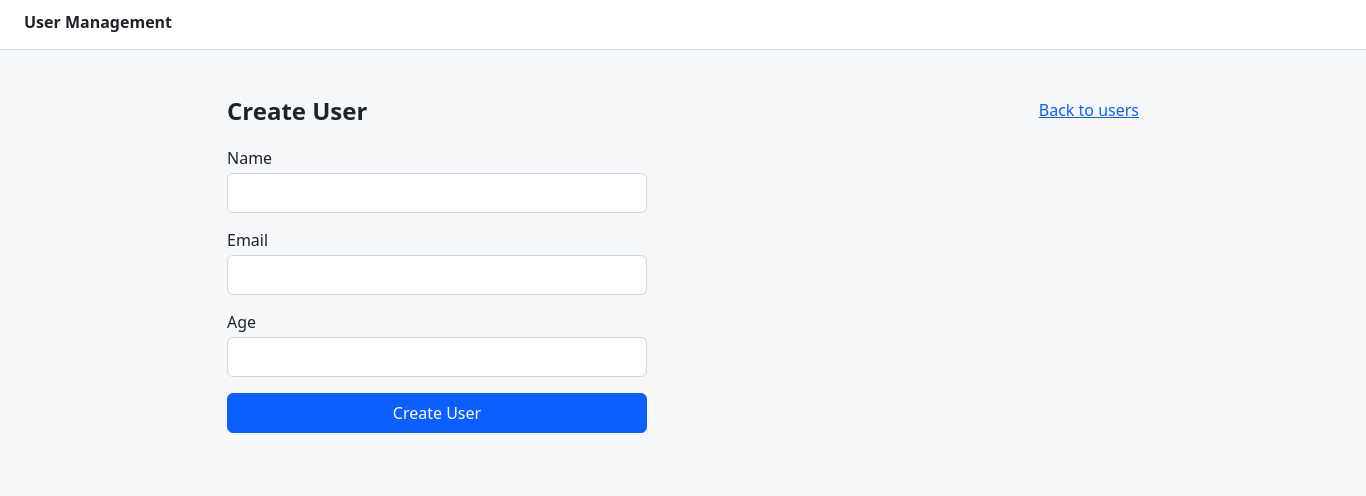
Scenario: Create user page › validates the email format and the age range
The width and height of the screenshot is (1366, 496).
Type "Alice" into the field labelled "Name" at {"x": 437, "y": 193}, box top-left (227, 173), bottom-right (647, 213)
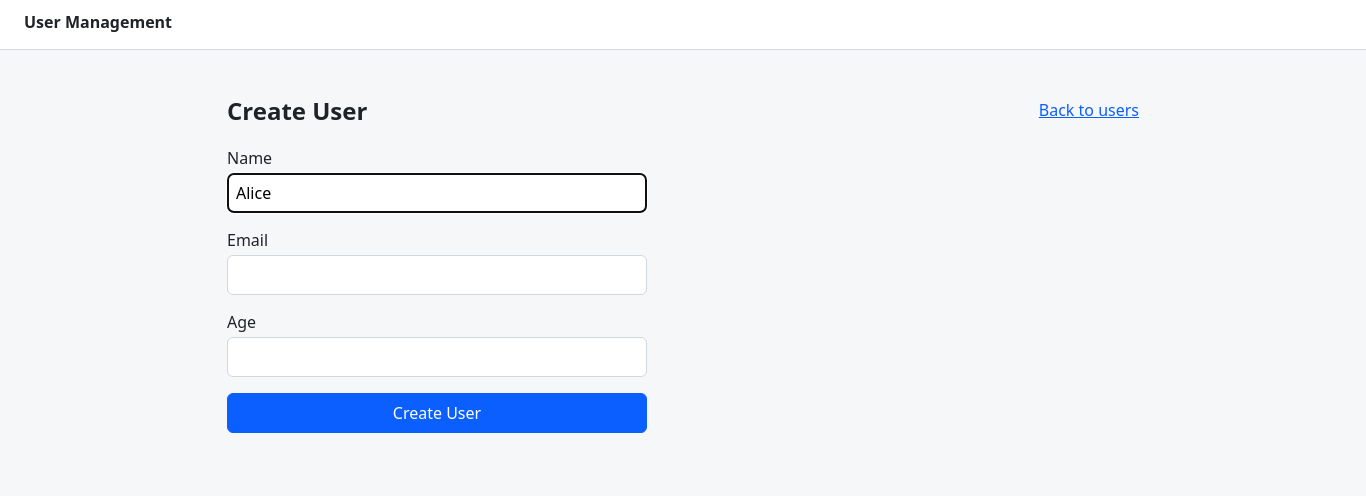
Type "not-an-email" into the field labelled "Email" at {"x": 437, "y": 275}, box top-left (227, 255), bottom-right (647, 295)
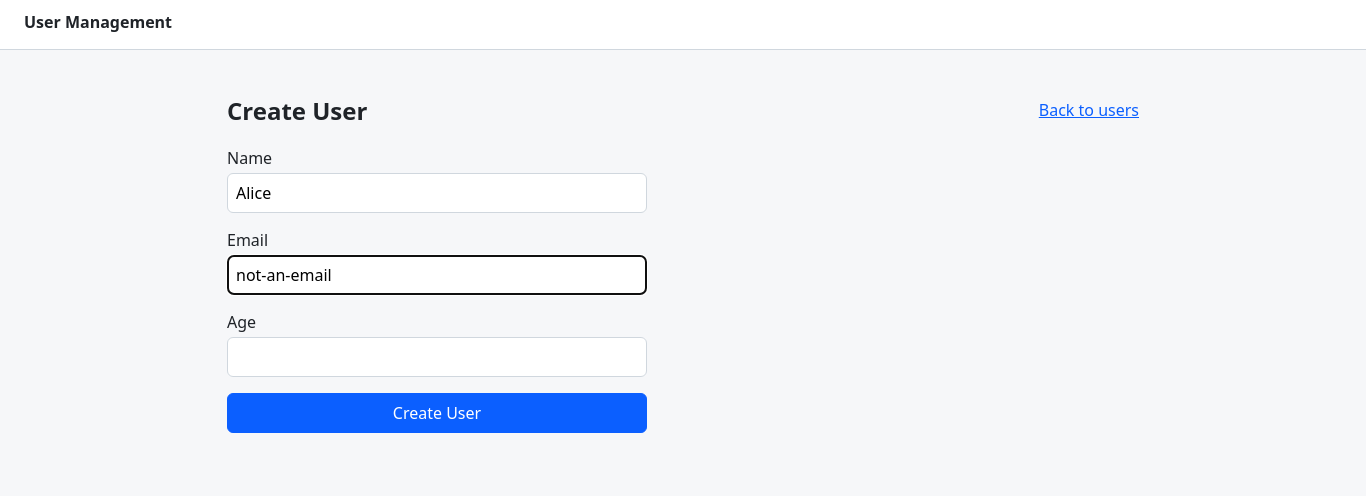
Type "200" into the number field labelled "Age" at {"x": 437, "y": 357}, box top-left (227, 337), bottom-right (647, 377)
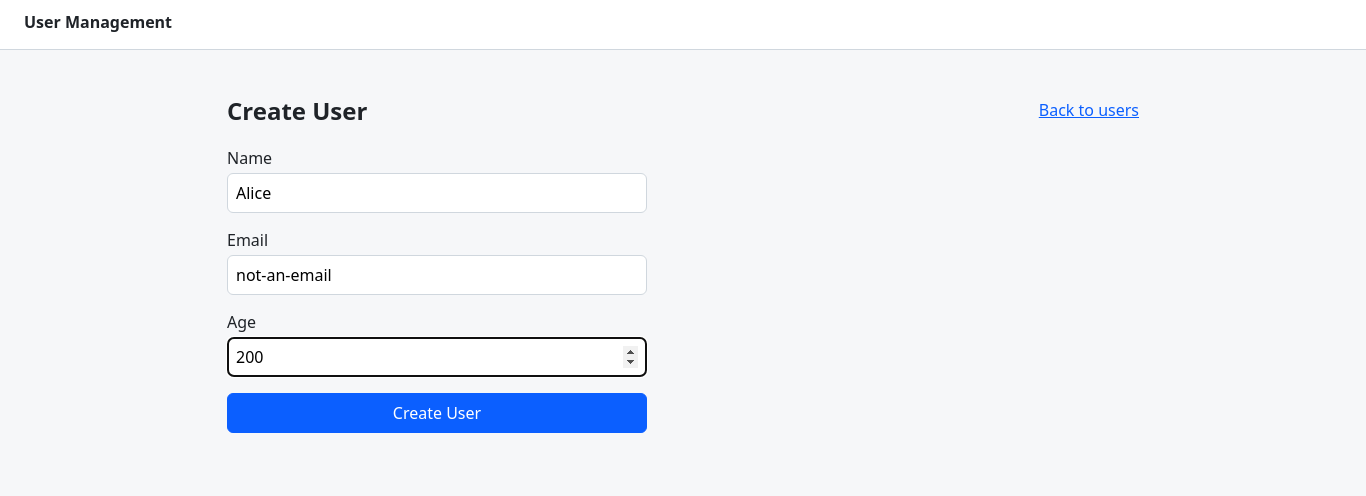
Click the button "Create User" at {"x": 437, "y": 413}, box top-left (227, 393), bottom-right (647, 433)
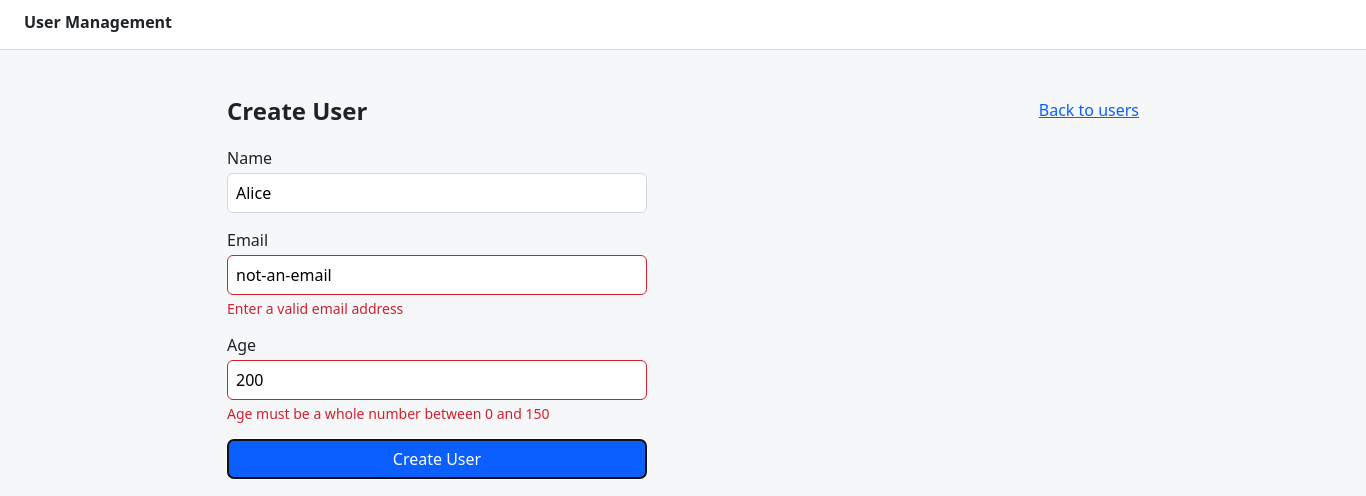
Expected: the text "Enter a valid email address" is shown, top-left (227, 299), bottom-right (403, 318)
Expected: the text "Age must be a whole number between 0 and 150" is shown, top-left (227, 404), bottom-right (550, 423)
